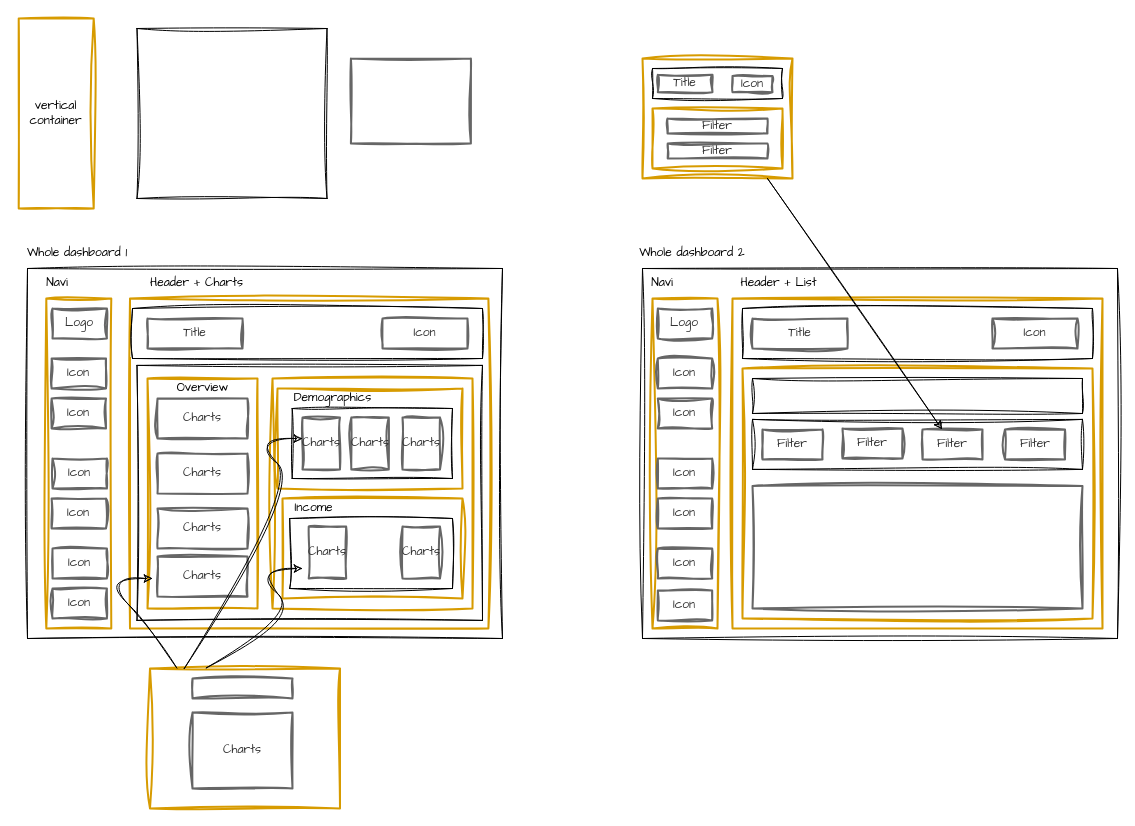
Image size: 1135x826. Some labels were removed from this diagram. Each missing label, with the centre of its shape:
Employee List: pixel 917 396
Horizontal container: pixel 231 113
List: pixel 917 546
object: pixel 410 100
Title of chart: pixel 242 688
